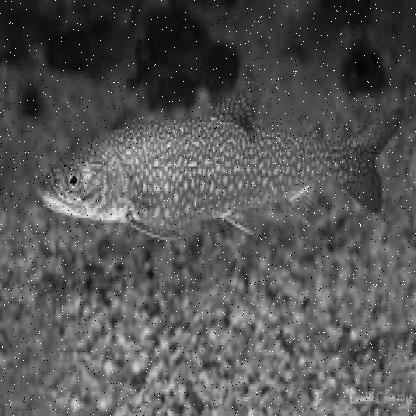fish: (36, 77, 404, 251)
